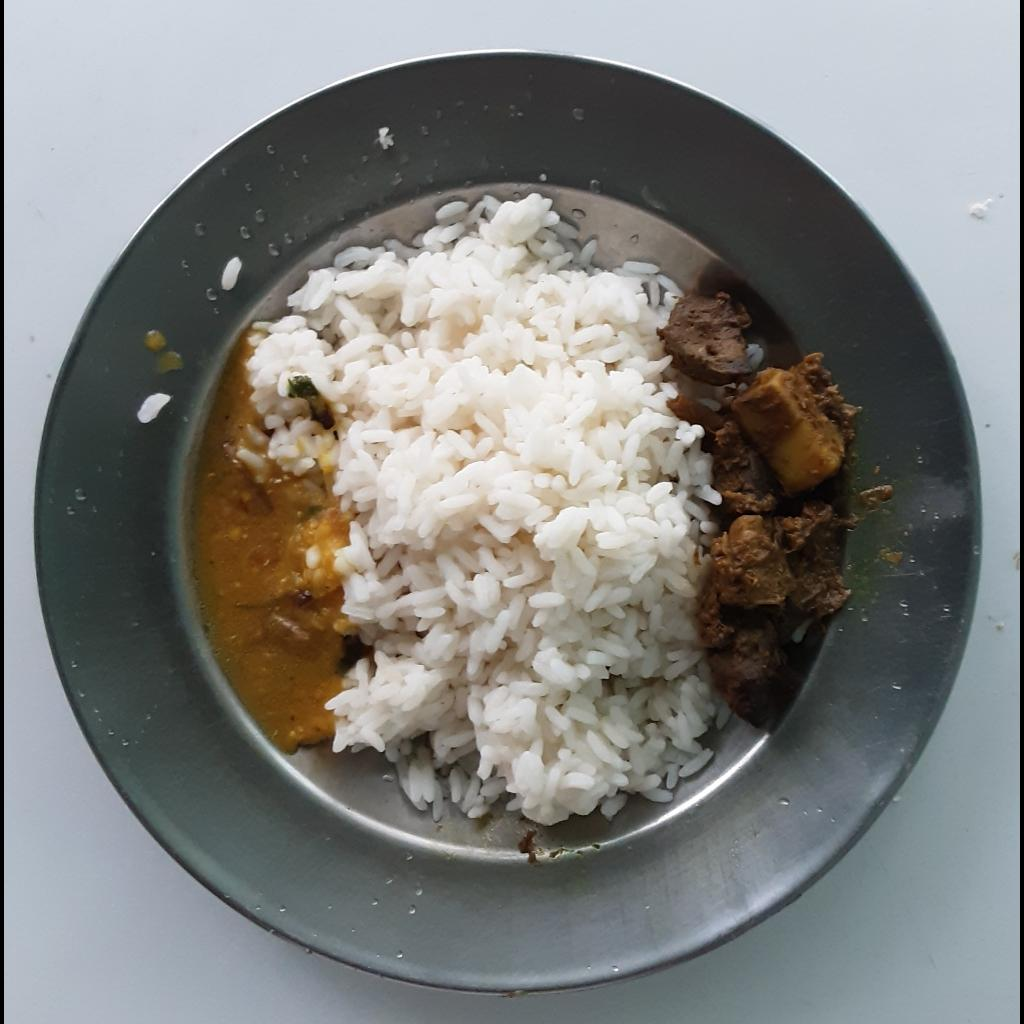beef: (665, 286, 850, 729)
daal: (185, 327, 346, 764)
potato: (739, 355, 858, 492)
rice: (249, 186, 734, 825)
